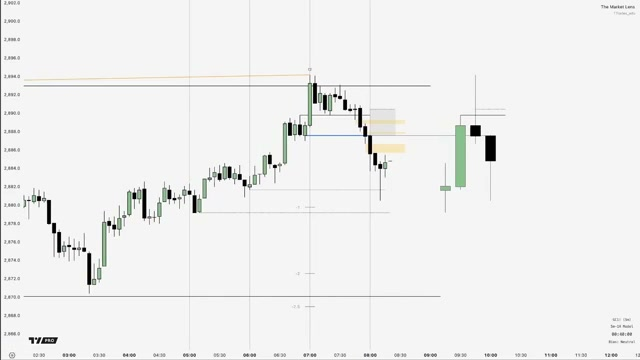bullish_reaction_zone: (342, 151, 413, 187)
liquidity_sweep_high: (372, 143, 406, 154)
